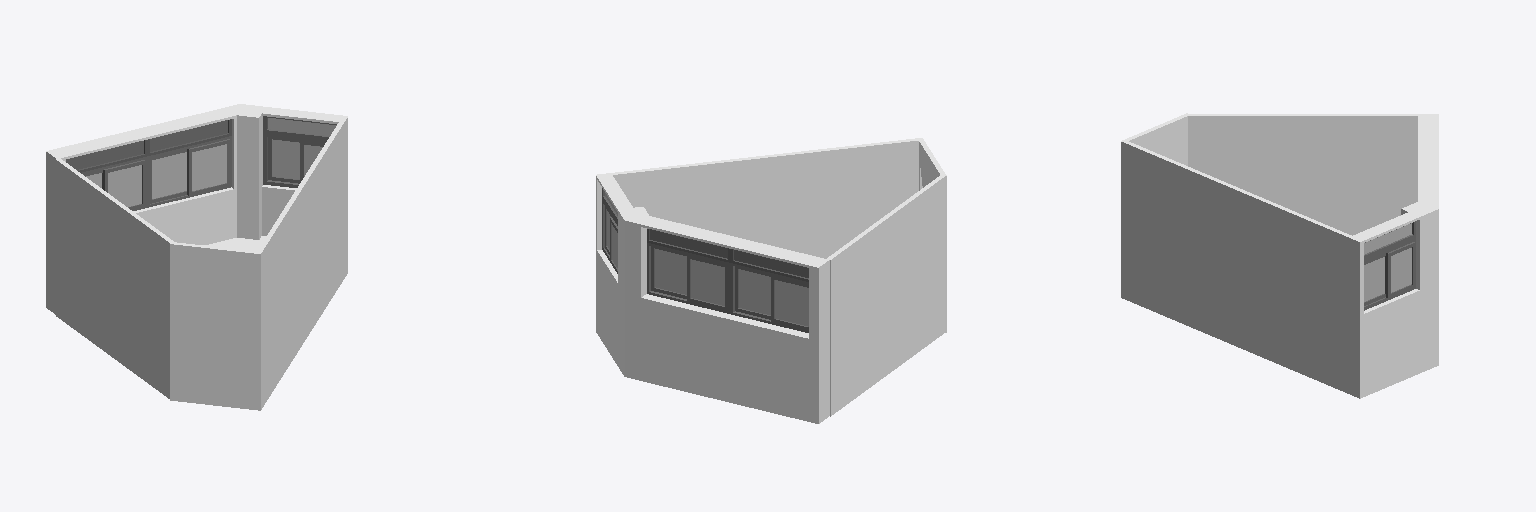
3 views of the same model, side by side, from view 1: azimuth 30°, elevation 25°; view 2: azimuth 150°, elevation 25°; view 3: azimuth 270°, elevation 25° (orthographic).
Visible parts, largest first — view 1: Mesh5 Group5 Model, Mesh3 Group3 Model, Mesh2 Group2 Model, Mesh4 Group4 Model, Mesh1 Group1 Model, Mesh6 Group6 Model, Mesh30 Glazing11 Window_Sliding_Casement_4_2 Window_Sliding_2_2 , Mesh33 Glazing13 Window_Sliding_Casement_4_3 Window_Sliding_2_2 , Mesh26 Glazing9 Window_Sliding_Casement_4_1 Window_Sliding_2_1 G, Mesh20 Group14 Group12 Group8 Model, Mesh11 Glazing2 Window_Sliding_Casement_14_1 Window_Sliding_7_1 , Mesh18 Group11 Group9 Group8 Model (+4 smaller); view 2: Mesh2 Group2 Model, Mesh4 Group4 Model, Mesh5 Group5 Model, Mesh1 Group1 Model, Mesh22 Glazing6 Window_Sliding_Casement_4 Window_Sliding_2_1 Gro, Mesh29 Glazing10 Window_Sliding_Casement_4_2 Window_Sliding_2_2 , Mesh32 Glazing12 Window_Sliding_Casement_4_3 Window_Sliding_2_2 , Mesh25 Glazing8 Window_Sliding_Casement_4_1 Window_Sliding_2_1 G, Mesh3 Group3 Model, Mesh20 Group14 Group12 Group8 Model, Mesh18 Group11 Group9 Group8 Model, Mesh28 Window_Sliding_Main_Frame_2_1 Window_Sliding_2_2 Group8 M (+2 smaller); view 3: Mesh4 Group4 Model, Mesh5 Group5 Model, Mesh2 Group2 Model, Mesh1 Group1 Model, Mesh3 Group3 Model, Mesh6 Group6 Model, Mesh9 Glazing1 Window_Sliding_Casement_14 Window_Sliding_7_1 Gro, Mesh12 Glazing3 Window_Sliding_Casement_14_1 Window_Sliding_7_1 , Mesh13 Window_Sliding_Casement_14_1 Window_Sliding_7_1 Group7 Mo, Mesh16 Glazing5 Window_Fixed_2_1 Group7 Model.
Part boxes in pixels (bbox=[...]): Mesh5 Group5 Model: bbox=[56, 158, 173, 364]; Mesh3 Group3 Model: bbox=[170, 242, 261, 376]; Mesh2 Group2 Model: bbox=[46, 104, 347, 314]; Mesh4 Group4 Model: bbox=[257, 122, 343, 373]; Mesh1 Group1 Model: bbox=[56, 236, 343, 410]; Mesh6 Group6 Model: bbox=[235, 104, 265, 239]; Mesh30 Glazing11 Window_Sliding_Casement_4_2 Window_Sliding_2_2 : bbox=[152, 152, 186, 198]; Mesh33 Glazing13 Window_Sliding_Casement_4_3 Window_Sliding_2_2 : bbox=[192, 144, 226, 190]; Mesh26 Glazing9 Window_Sliding_Casement_4_1 Window_Sliding_2_1 G: bbox=[108, 165, 141, 206]; Mesh20 Group14 Group12 Group8 Model: bbox=[150, 120, 227, 151]; Mesh11 Glazing2 Window_Sliding_Casement_14_1 Window_Sliding_7_1 : bbox=[272, 139, 299, 178]; Mesh18 Group11 Group9 Group8 Model: bbox=[66, 141, 143, 169]; Mesh2 Group2 Model: bbox=[596, 173, 829, 423]; Mesh4 Group4 Model: bbox=[612, 138, 918, 258]; Mesh5 Group5 Model: bbox=[827, 175, 944, 381]; Mesh1 Group1 Model: bbox=[830, 298, 946, 416]; Mesh22 Glazing6 Window_Sliding_Casement_4 Window_Sliding_2_1 Gro: bbox=[775, 280, 808, 326]; Mesh29 Glazing10 Window_Sliding_Casement_4_2 Window_Sliding_2_2 : bbox=[691, 259, 724, 305]; Mesh32 Glazing12 Window_Sliding_Casement_4_3 Window_Sliding_2_2 : bbox=[655, 249, 686, 294]; Mesh25 Glazing8 Window_Sliding_Casement_4_1 Window_Sliding_2_1 G: bbox=[739, 269, 770, 314]; Mesh3 Group3 Model: bbox=[917, 138, 946, 297]; Mesh20 Group14 Group12 Group8 Model: bbox=[650, 229, 727, 258]; Mesh18 Group11 Group9 Group8 Model: bbox=[734, 250, 808, 277]; Mesh28 Window_Sliding_Main_Frame_2_1 Window_Sliding_2_2 Group8 M: bbox=[647, 243, 731, 313]; Mesh4 Group4 Model: bbox=[1125, 141, 1351, 359]; Mesh5 Group5 Model: bbox=[1188, 114, 1417, 235]; Mesh2 Group2 Model: bbox=[1349, 114, 1438, 398]; Mesh1 Group1 Model: bbox=[1121, 264, 1348, 393]; Mesh3 Group3 Model: bbox=[1121, 113, 1189, 264]; Mesh6 Group6 Model: bbox=[1401, 202, 1438, 335]; Mesh9 Glazing1 Window_Sliding_Casement_14 Window_Sliding_7_1 Gro: bbox=[1364, 257, 1384, 301]; Mesh12 Glazing3 Window_Sliding_Casement_14_1 Window_Sliding_7_1 : bbox=[1391, 248, 1411, 292]; Mesh13 Window_Sliding_Casement_14_1 Window_Sliding_7_1 Group7 Mo: bbox=[1386, 242, 1414, 297]; Mesh16 Glazing5 Window_Fixed_2_1 Group7 Model: bbox=[1364, 223, 1411, 254].
Bounding box in the file's own units: 5.66 × 3.2 × 5.9.